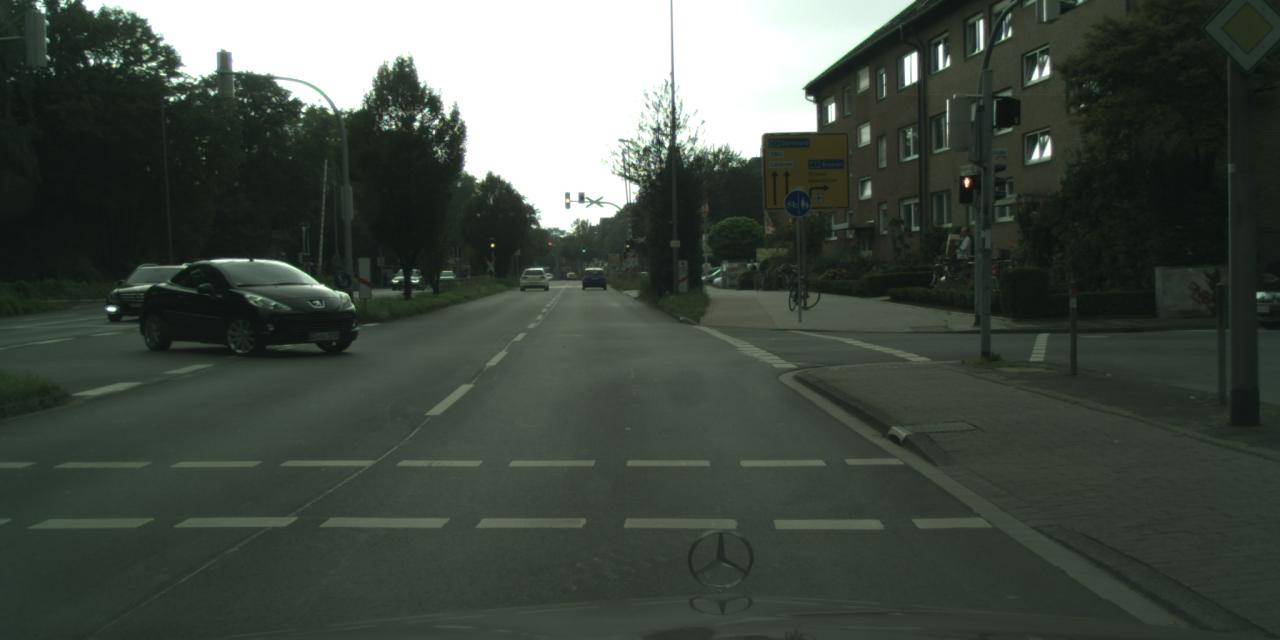ped: (949, 228, 972, 284), (748, 258, 758, 284)
